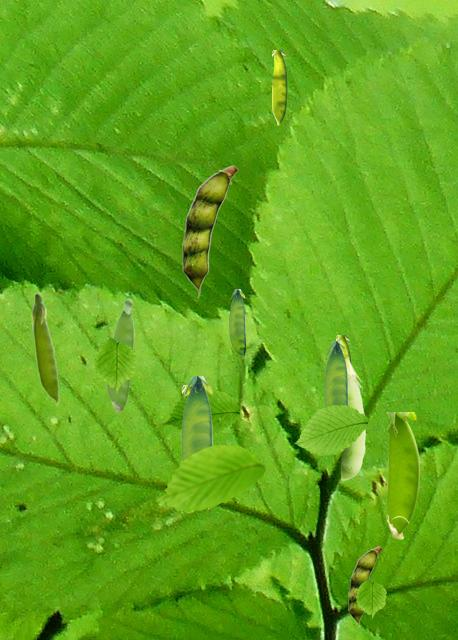pea: (182, 165, 237, 297), (181, 376, 212, 508), (386, 412, 418, 538), (31, 292, 59, 405), (106, 298, 133, 411), (340, 356, 364, 479), (348, 546, 381, 627), (324, 341, 347, 406), (272, 50, 286, 124), (229, 289, 244, 357), (336, 335, 350, 360), (182, 385, 191, 394)
